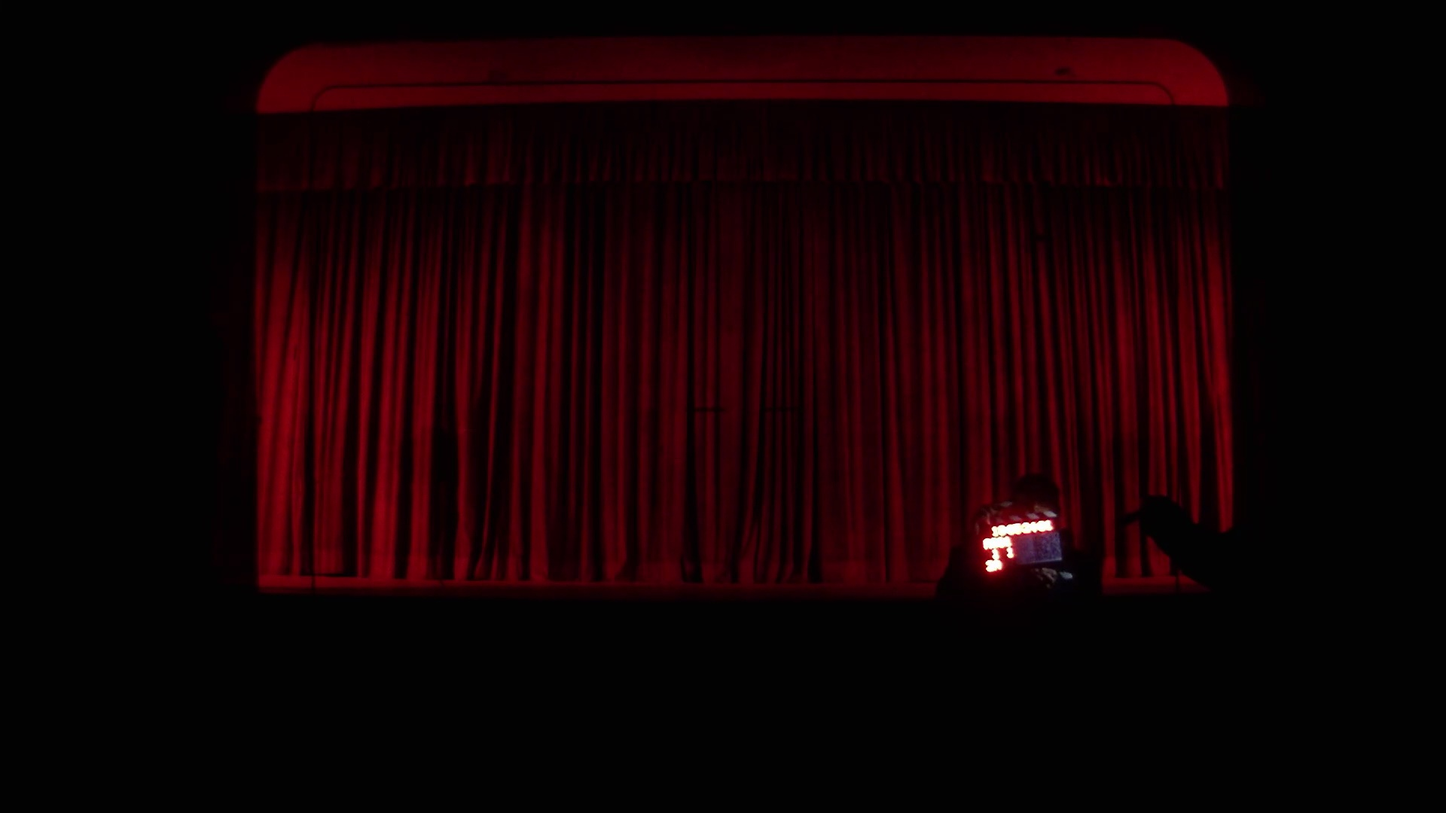ARC-SLATE: (977, 508, 1064, 579)
